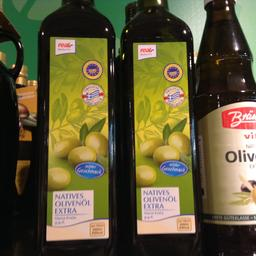oil: (34, 1, 116, 255), (118, 0, 199, 254), (191, 0, 255, 251)
